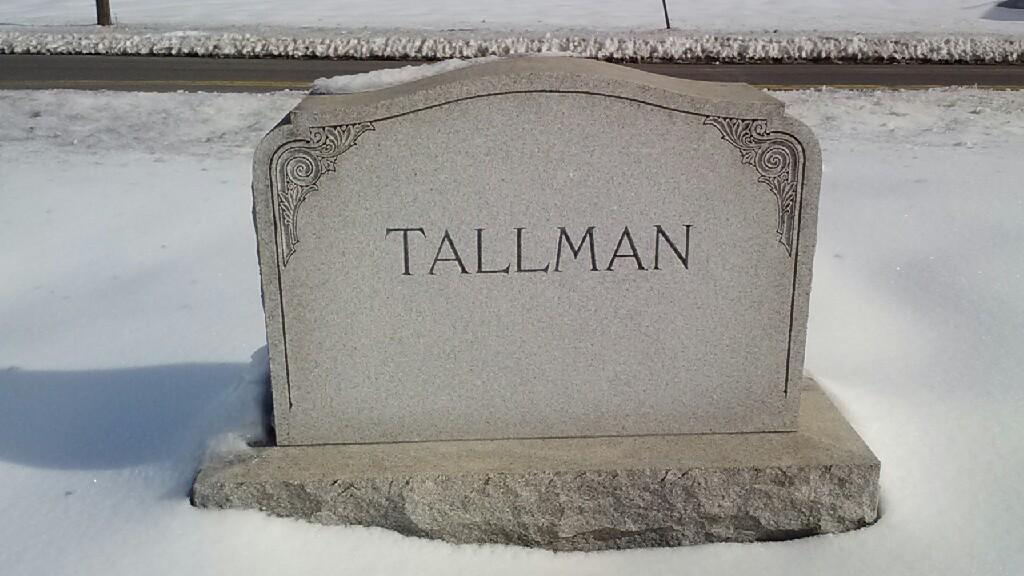upright: (182, 47, 886, 538)
